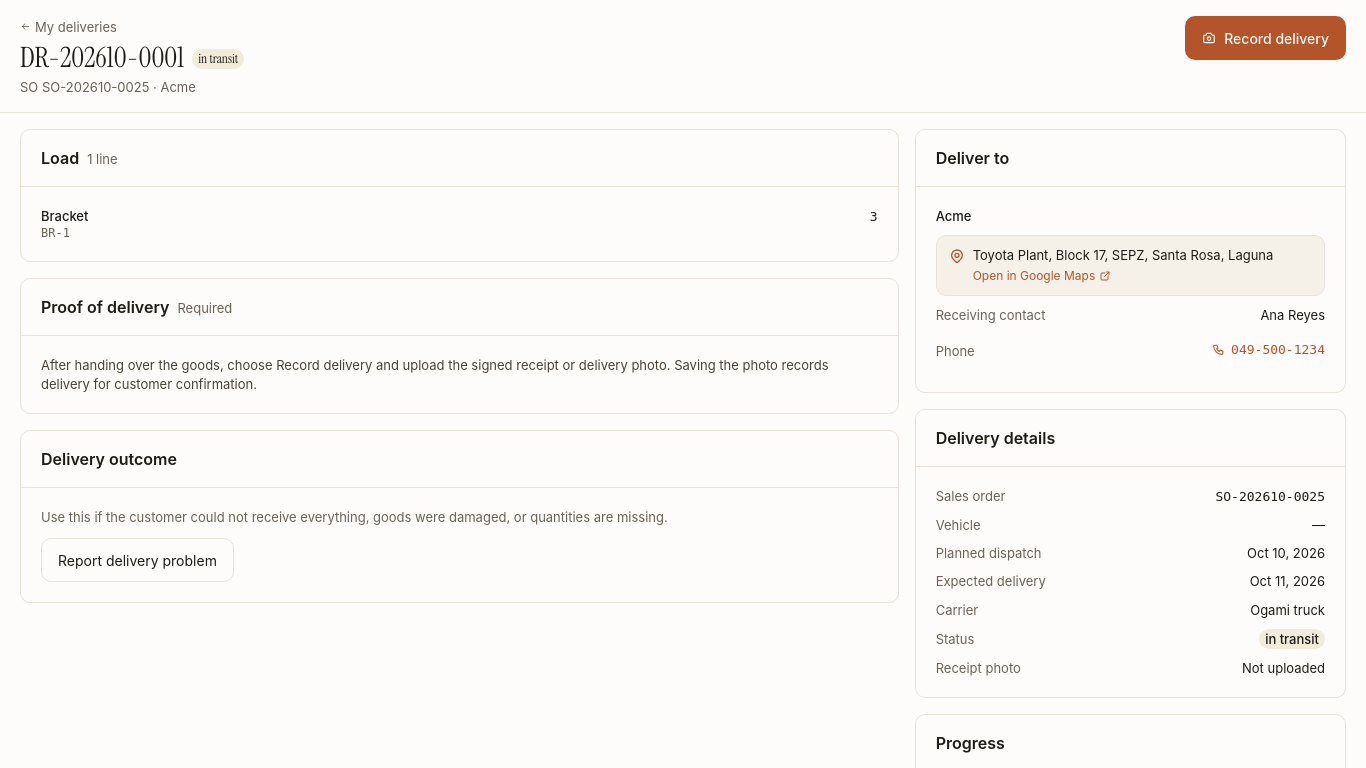
Test case: records delivery through photo capture while preserving the problem report
Expected: the button "Report delivery problem" is shown, [41,538,234,582]
Expected: the text "Ogami truck" is shown, [1250,601,1325,619]
Click the button "Record delivery" at (1266, 38), box [1185,16,1346,60]
(page scrolled)
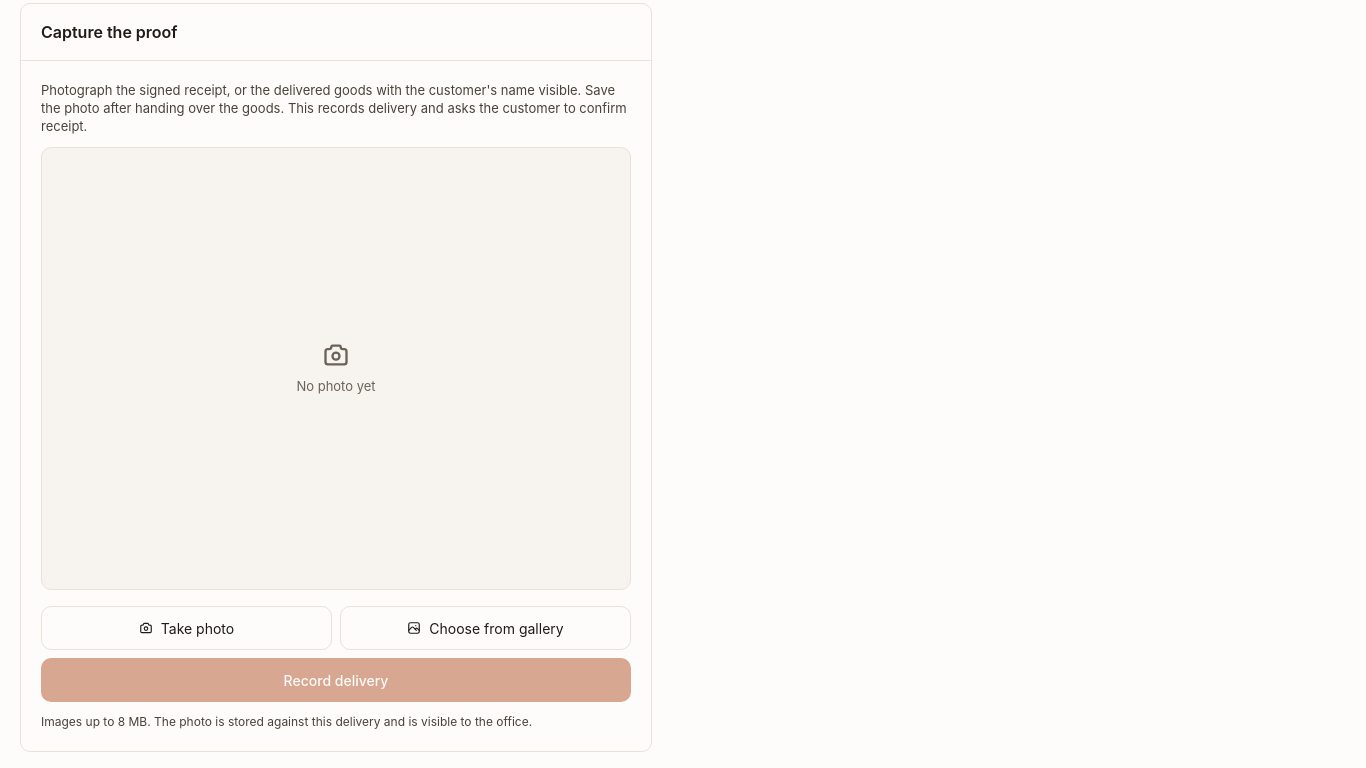
Result: the button "Take photo" is shown at [41,606,332,650]
Result: the button "Record delivery" is disabled at [41,658,631,702]
